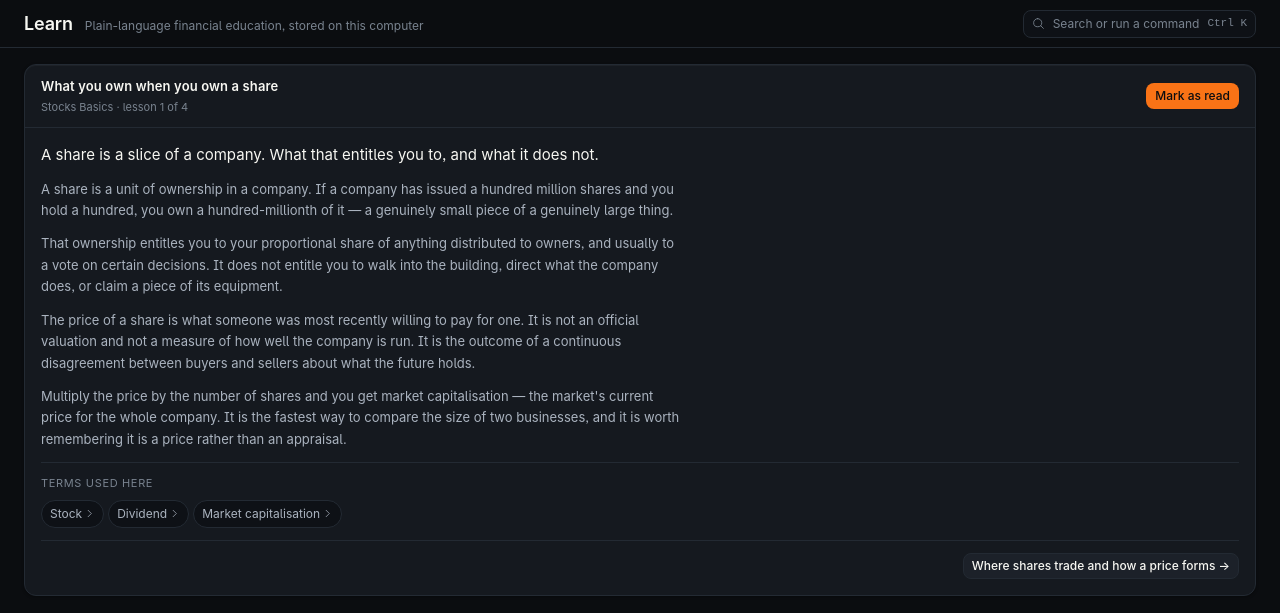
Scenario: Learn — progress › marks a lesson as read and reflects it on the path
Check: the heading "What you own when you own a share" is shown, box [41,77,278,96]
Step 1. Click the button "Mark as read" → (1193, 96), box [1146,83,1239,109]
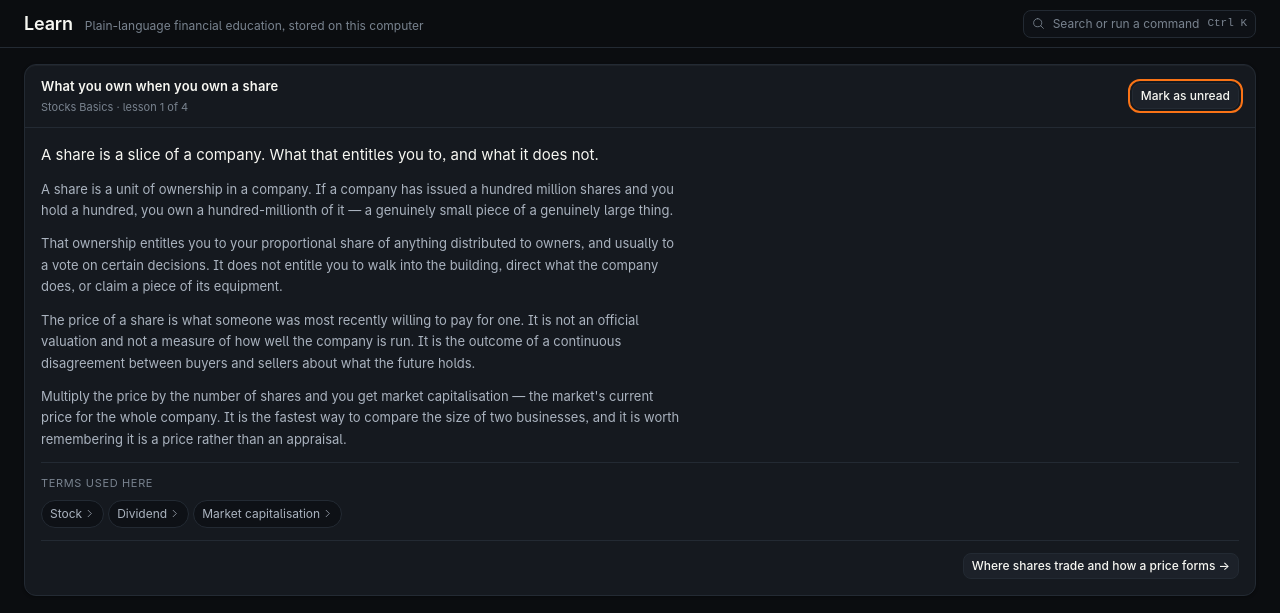
Check: the button "Mark as unread" is shown, box [1132,83,1239,109]
